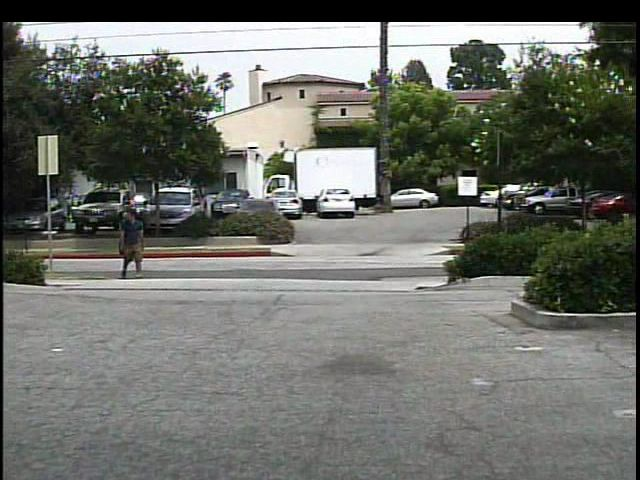person: (116, 208, 149, 284)
